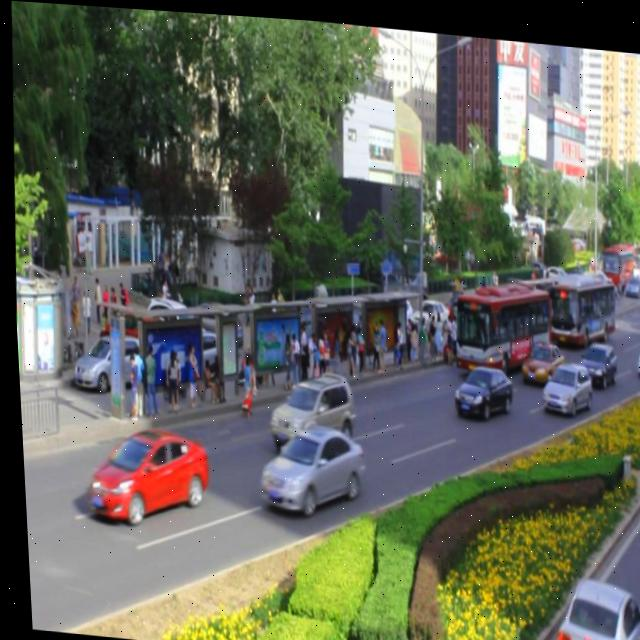car: (78, 419, 205, 528), (250, 414, 361, 514), (262, 363, 352, 447), (447, 354, 507, 414), (534, 350, 586, 410), (514, 331, 560, 377), (571, 330, 613, 379), (630, 323, 640, 368)
van: (448, 268, 549, 373), (535, 253, 609, 338)
